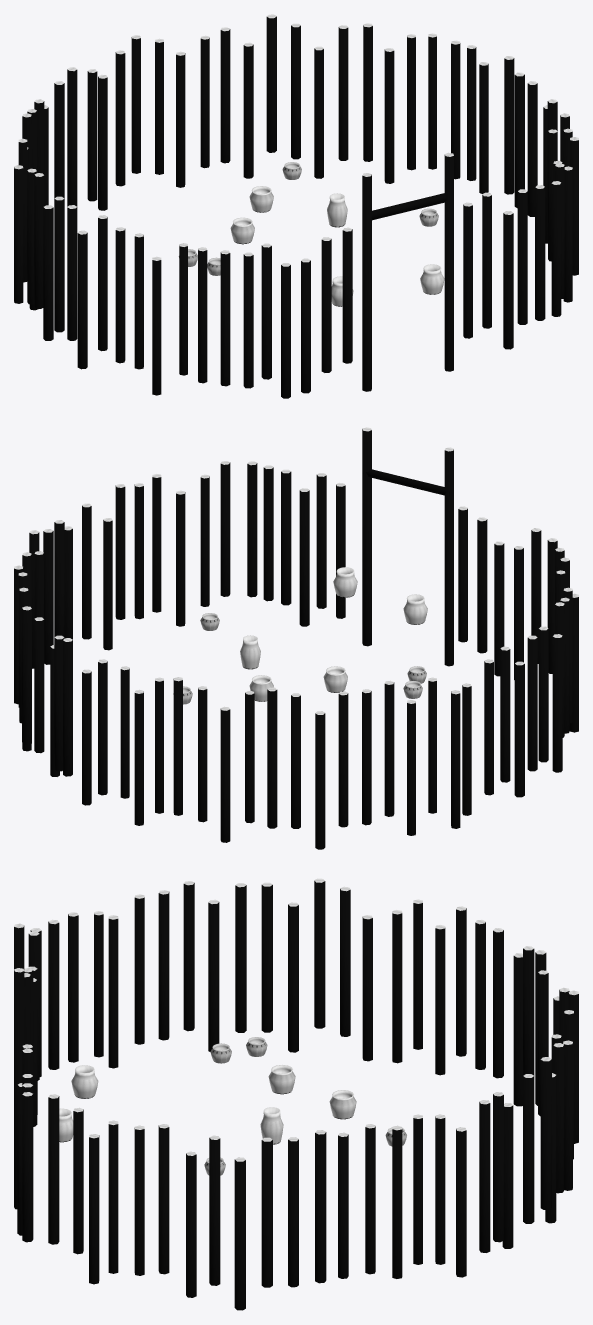
File: maya_vila.dae
The picture shows the model from 3 angles, top to bottom: view 1: azimuth 30°, elevation 25°; view 2: azimuth 150°, elevation 25°; view 3: azimuth 270°, elevation 25°; orthographic projection. The views are drawn at different scales.
Parts seen in each view (by area): view 1: Cilindro.001; view 2: Cilindro.001; view 3: Cilindro.001.
Part boxes in pixels (<box>): Cilindro.001: <box>14,14,578,398</box>; Cilindro.001: <box>14,427,578,849</box>; Cilindro.001: <box>14,878,578,1310</box>.
Size of the model in its own units: 40.87 by 37.24 by 17.26.
